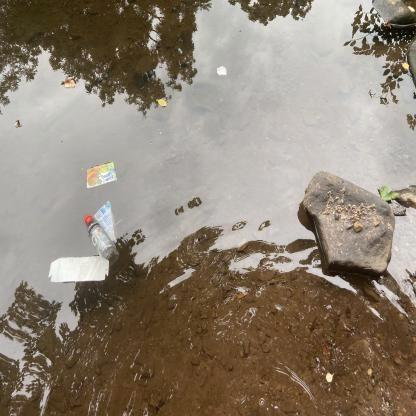Plastic: (85, 198, 119, 257)
Trash: (44, 250, 113, 285)
